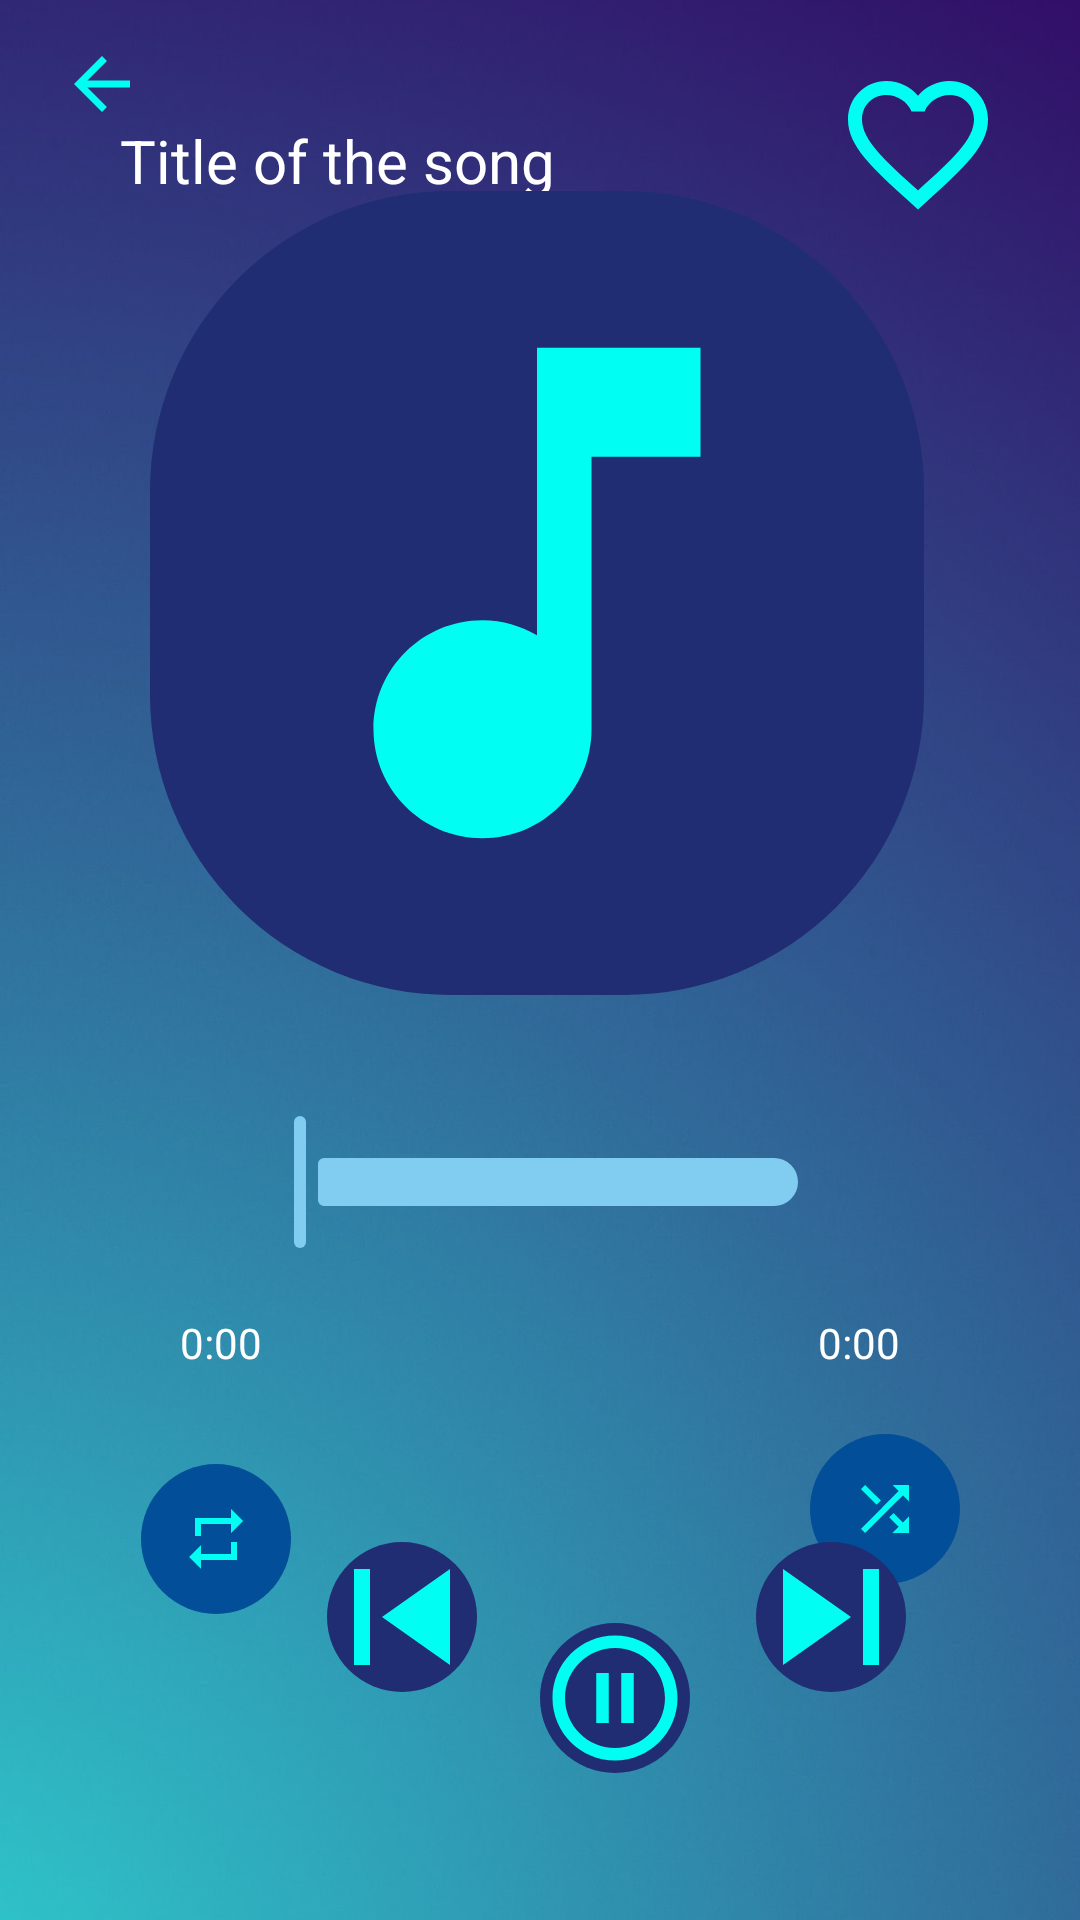

Where icons sit on this 1080 x 1920 app screen, as detection(x1, y1, x2, y2):
empty favorite: detection(848, 81, 988, 210)
next: detection(756, 1542, 906, 1692)
pause/play: detection(540, 1623, 690, 1773)
previous: detection(327, 1542, 477, 1692)
repeate: detection(141, 1464, 291, 1614)
return back arrow: detection(74, 56, 167, 147)
shuffel: detection(810, 1434, 960, 1584)
